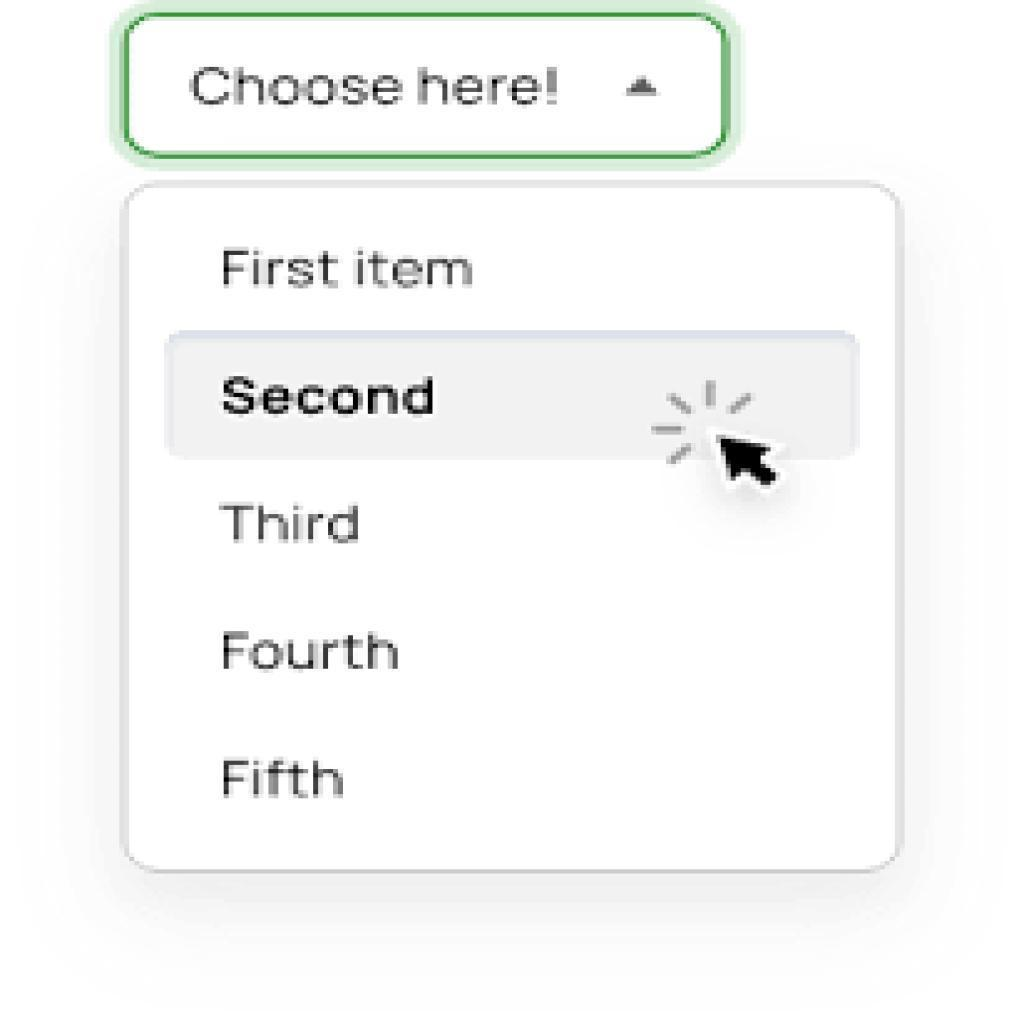dropdown: (126, 12, 721, 156)
